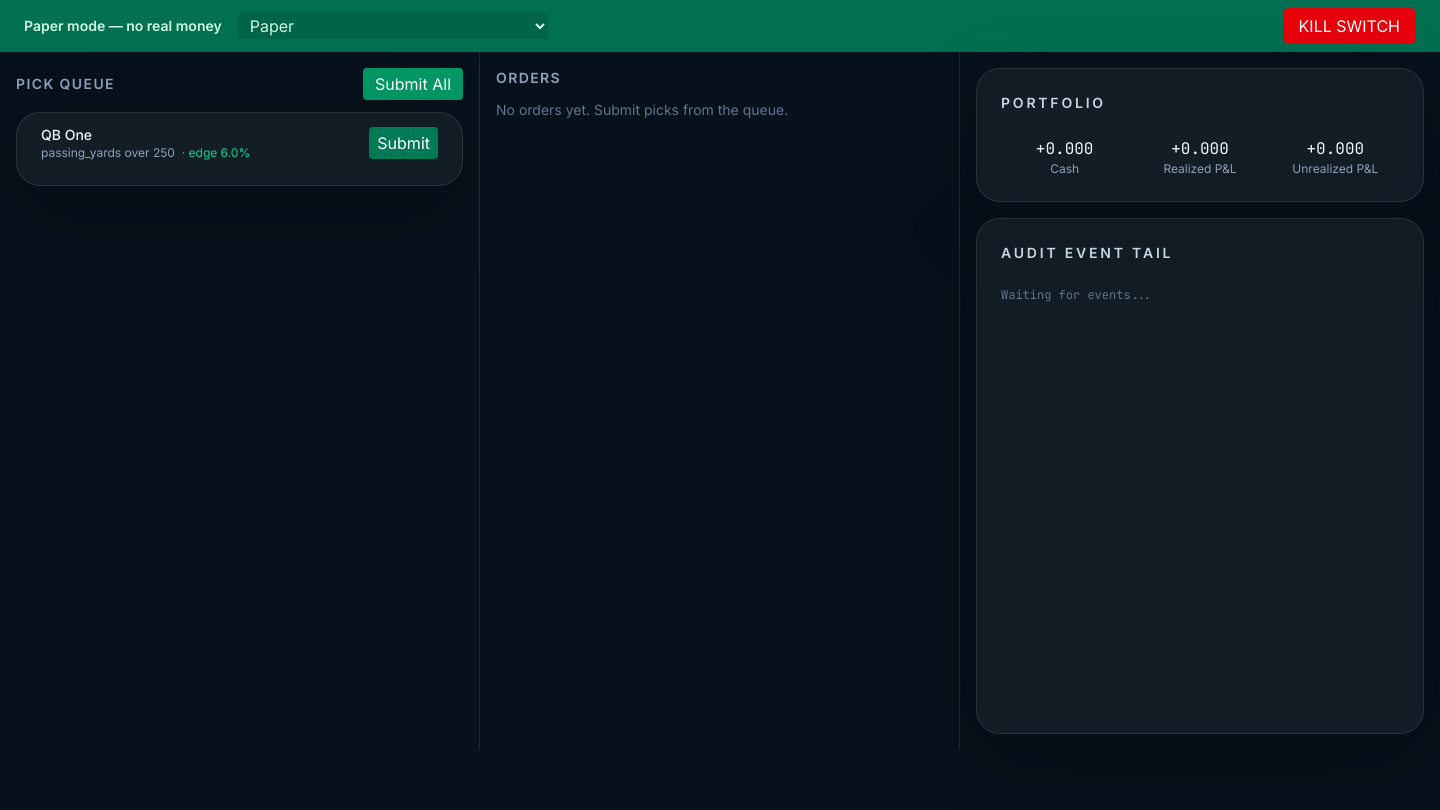
Test case: ExecutionPage › shows submitted intent after submit
The width and height of the screenshot is (1440, 810).
Expected: the text "QB One" is shown, [41,126,92,143]
Click the button "Submit". click: click(404, 143)
box: [369,127,438,159]
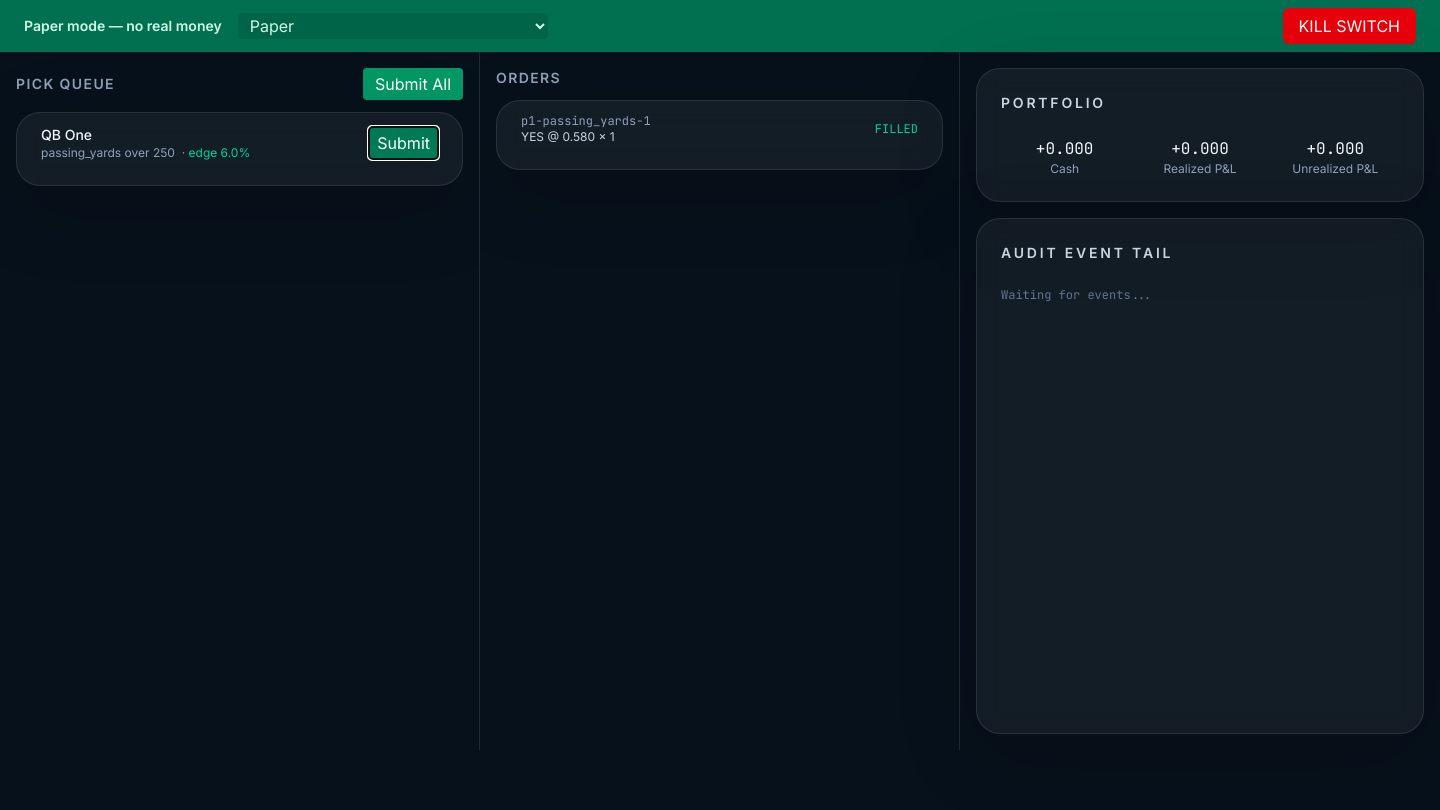
Expected: the text "filled" is shown, [875,121,918,137]
